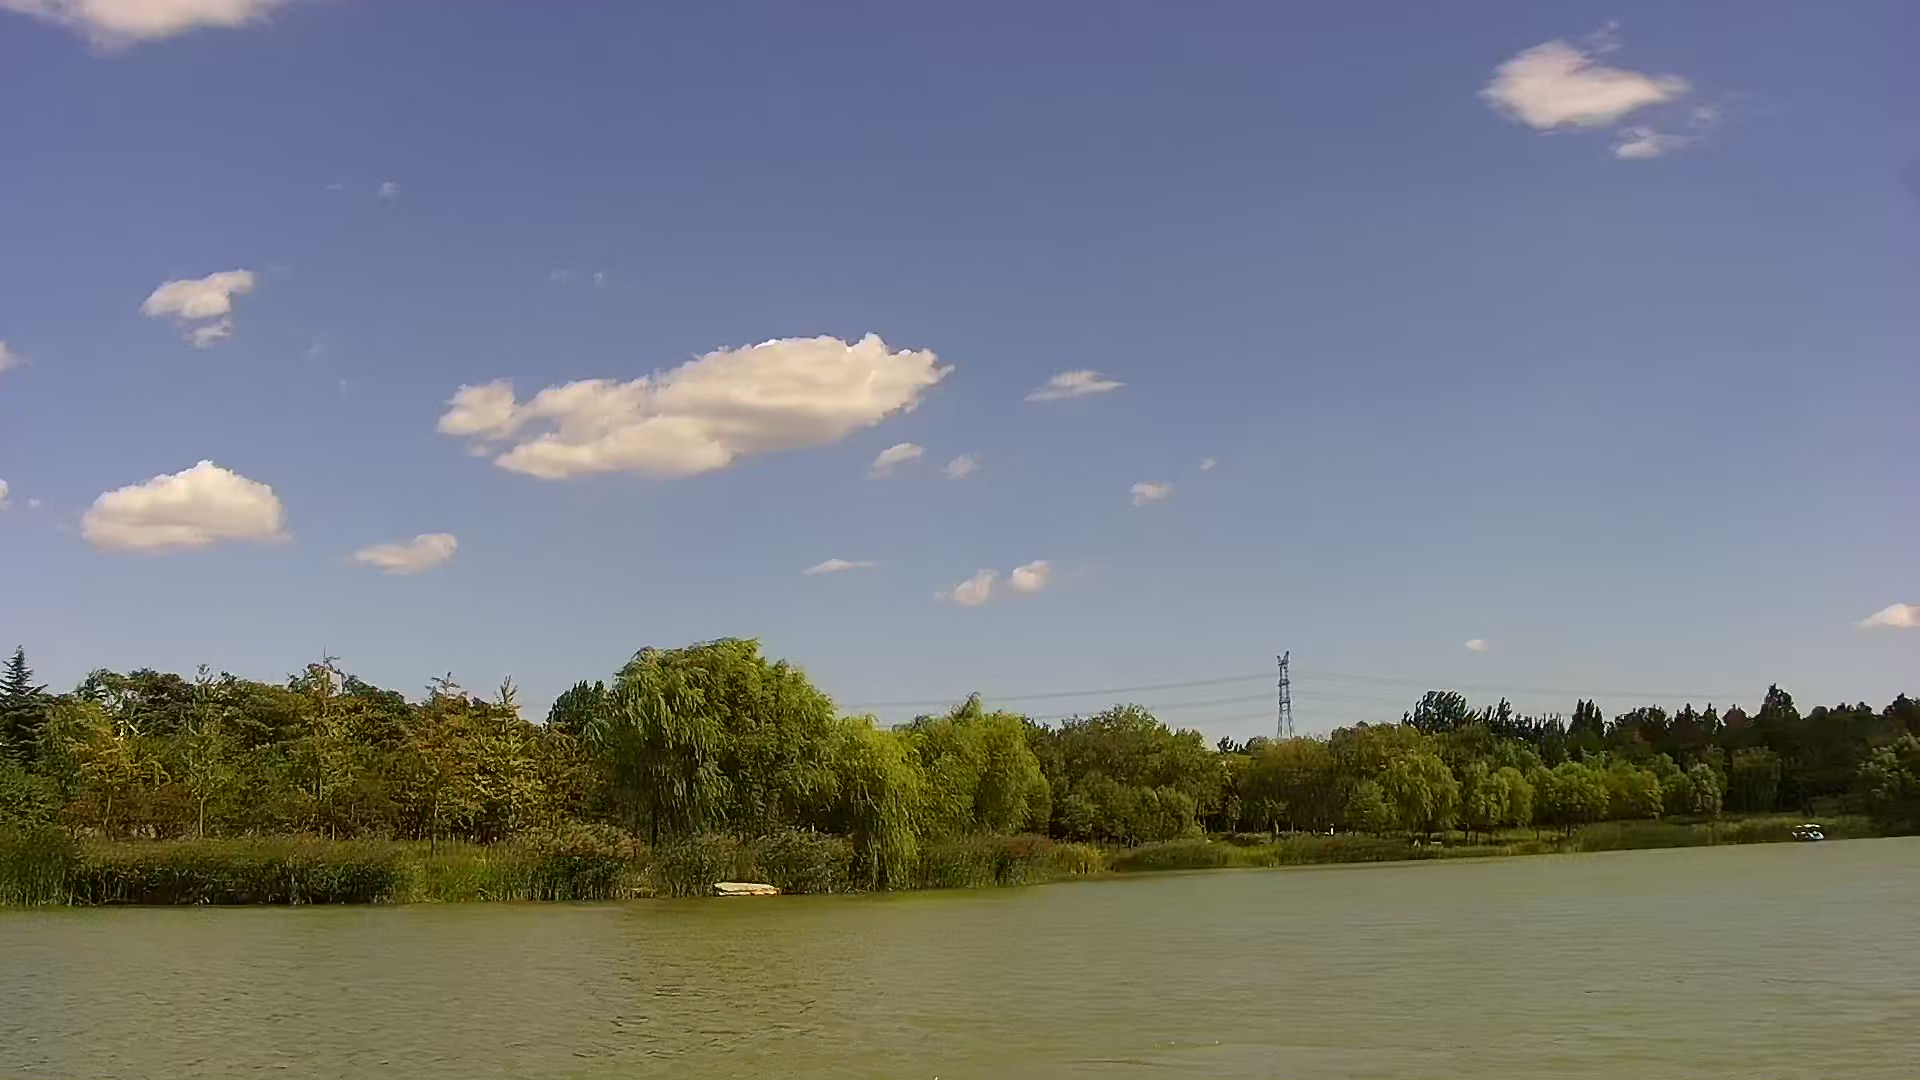boat: (1793, 822, 1834, 844)
